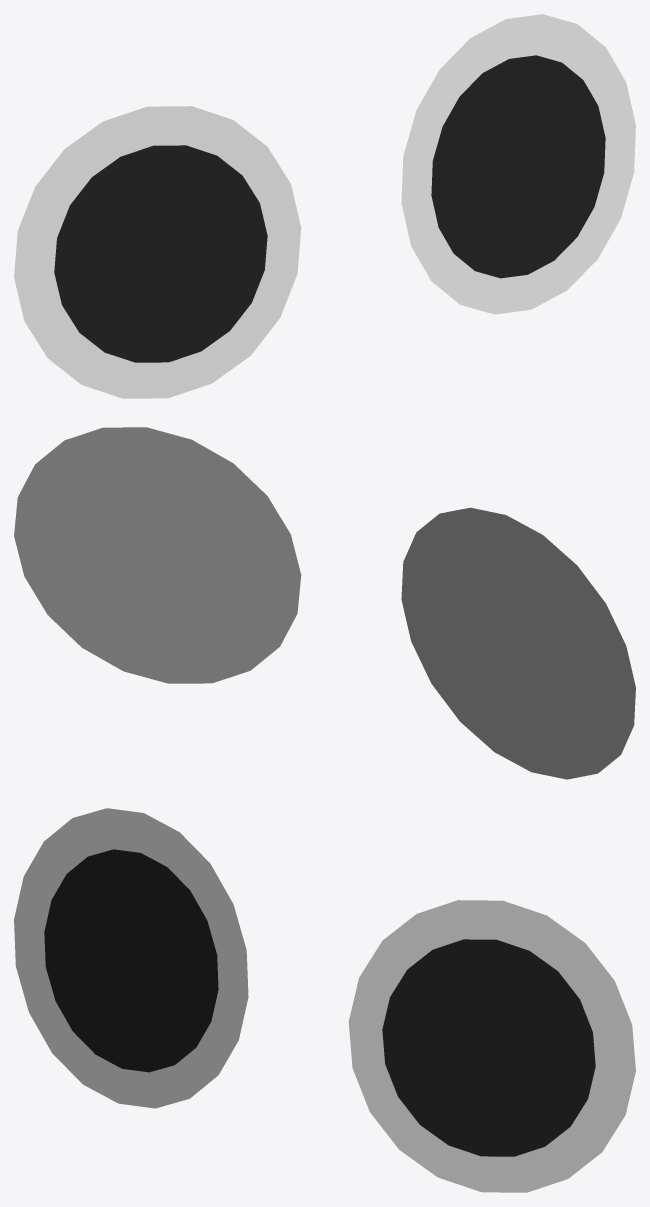
File: eye_1.fbx
3 renders of one model, top to bottom at view 1: azimuth 30°, elevation 25°; view 2: azimuth 150°, elevation 25°; view 3: azimuth 330°, elevation 25°, orthographic.
Visible parts, largest first — view 1: eye_1; view 2: eye_1; view 3: eye_1.
Boxes of the visible parts, <box> form: eye_1: <box>14,14,635,398</box>; eye_1: <box>14,427,635,779</box>; eye_1: <box>14,808,635,1192</box>.
Size of the model in its own units: 0.9866 by 0.4152 by 0.0964.
